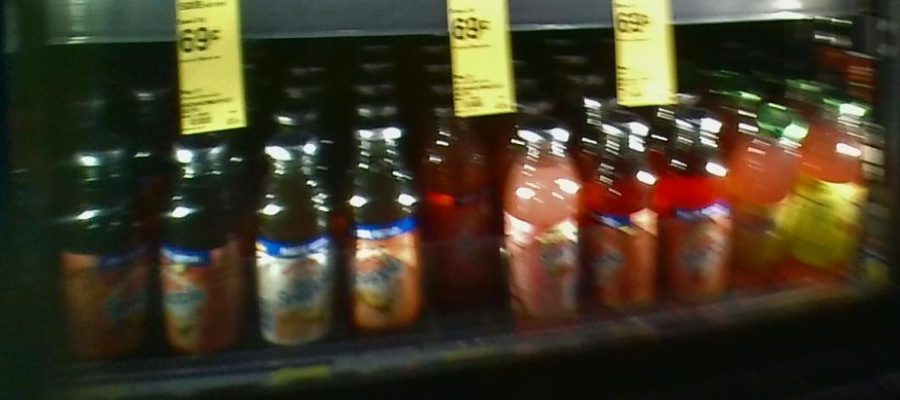bottle: (59, 137, 157, 383), (244, 127, 340, 363), (159, 128, 242, 373), (340, 111, 420, 345), (499, 116, 583, 335), (584, 100, 661, 321), (797, 82, 869, 296), (422, 89, 495, 292), (665, 100, 735, 304), (736, 108, 795, 300)
